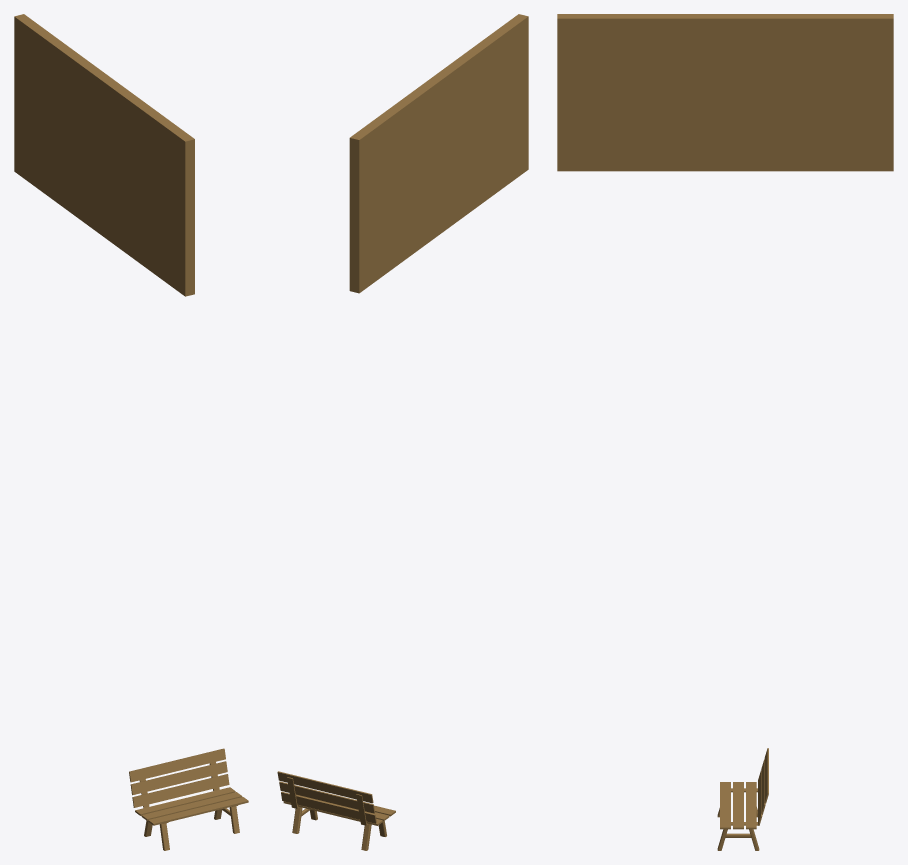
Rendered from Bench(1).fbx.
The picture shows the model from 3 angles, left to right: view 1: azimuth 30°, elevation 25°; view 2: azimuth 150°, elevation 25°; view 3: azimuth 270°, elevation 25°; orthographic projection.
Visible parts, largest first — view 1: Bench1; view 2: Bench1; view 3: Bench1.
Part boxes in pixels (x1=…): Bench1: x1=14, y1=14, x2=248, y2=850; Bench1: x1=277, y1=14, x2=528, y2=850; Bench1: x1=557, y1=14, x2=893, y2=850.
Size of the model in its own units: 2.93 by 5.94 by 15.01.
